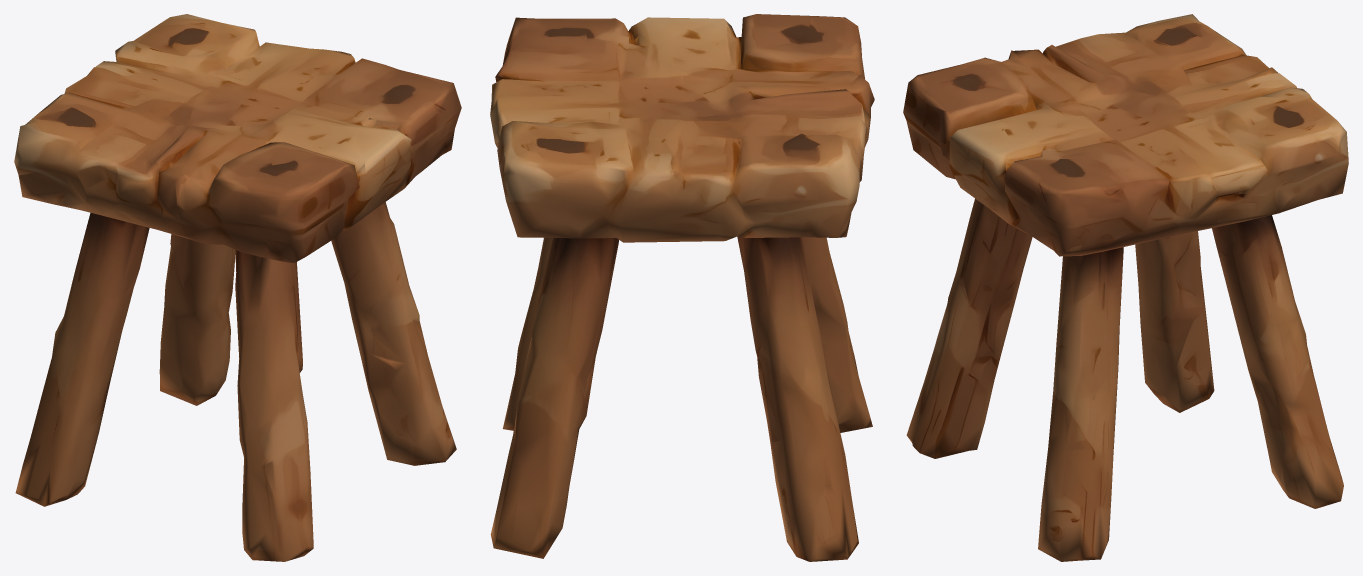
File: stool.glb
The picture shows the model from 3 angles, left to right: view 1: azimuth 30°, elevation 25°; view 2: azimuth 150°, elevation 25°; view 3: azimuth 270°, elevation 25°; orthographic projection. The views are drawn at different scales.
Visible parts, largest first — view 1: tripo_node_1906d02a-41e5-46be-97a6-c7e6092d8b6b; view 2: tripo_node_1906d02a-41e5-46be-97a6-c7e6092d8b6b; view 3: tripo_node_1906d02a-41e5-46be-97a6-c7e6092d8b6b.
Part boxes in pixels (left/top/right/bottom): tripo_node_1906d02a-41e5-46be-97a6-c7e6092d8b6b: left=14, top=14, right=461, bottom=561; tripo_node_1906d02a-41e5-46be-97a6-c7e6092d8b6b: left=490, top=14, right=874, bottom=561; tripo_node_1906d02a-41e5-46be-97a6-c7e6092d8b6b: left=903, top=14, right=1348, bottom=561.
Size of the model in its own units: 0.9979 by 0.9363 by 1.
Materials: 1 (1 with a texture image).
